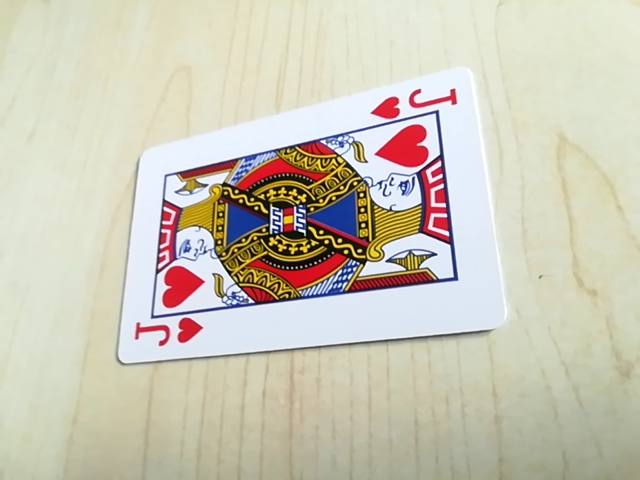hx j: (130, 312, 207, 358), (366, 84, 458, 121)
